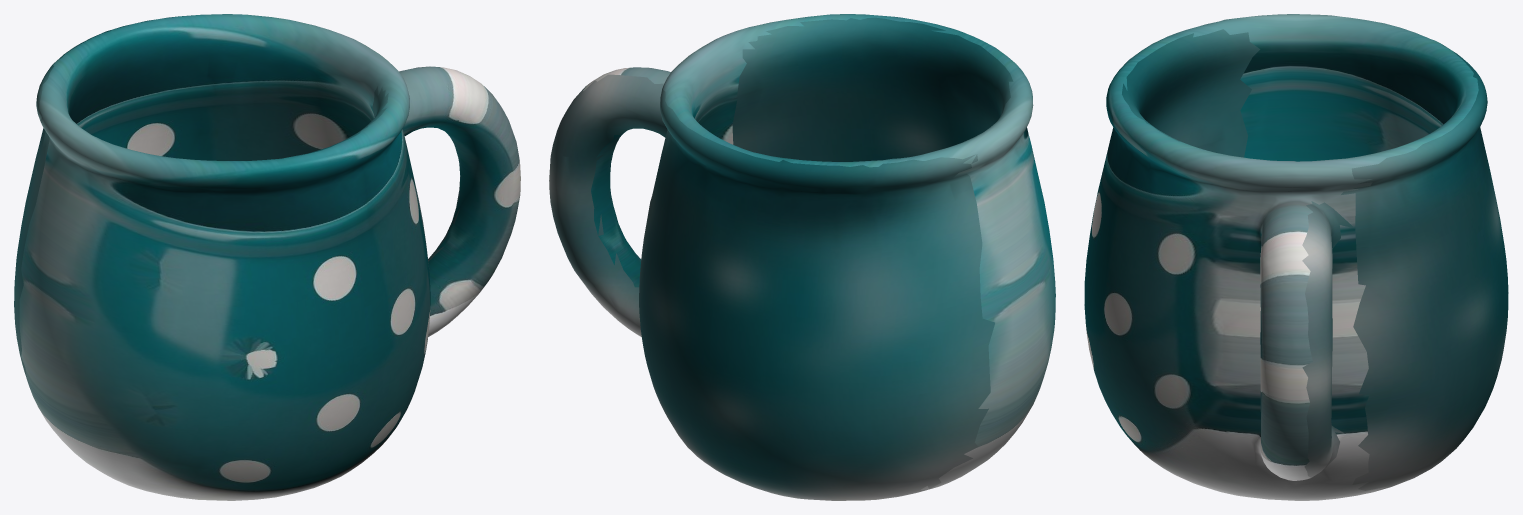
Rendered from mug.glb.
3 renders of one model, left to right at view 1: azimuth 30°, elevation 25°; view 2: azimuth 150°, elevation 25°; view 3: azimuth 270°, elevation 25°, orthographic.
Parts seen in each view (by area): view 1: mug; view 2: mug; view 3: mug.
Part boxes in pixels (x1,y1,x2,y2): mug: [14, 14, 520, 500]; mug: [549, 14, 1055, 500]; mug: [1084, 14, 1508, 500].
Bounding box in the file's own units: 4.6 × 3.3 × 3.55.
Materials: 1 (1 with a texture image).
